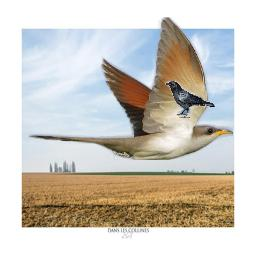Crow: (165, 81, 215, 118)
Cuckoo: (28, 17, 233, 160)
